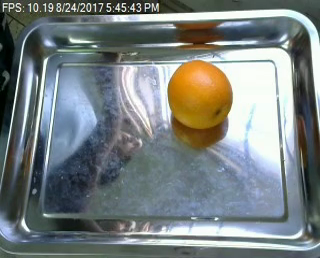Orange: (166, 58, 231, 129)
